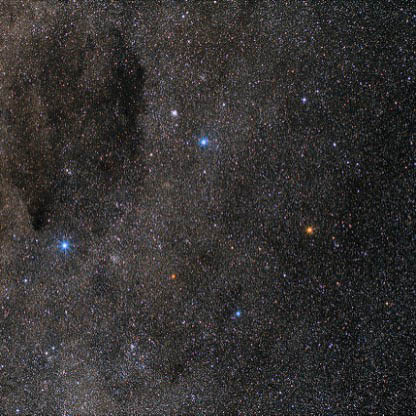Southern Cross: (53, 227, 83, 256), (300, 215, 329, 243), (222, 299, 248, 328), (193, 129, 218, 154)
